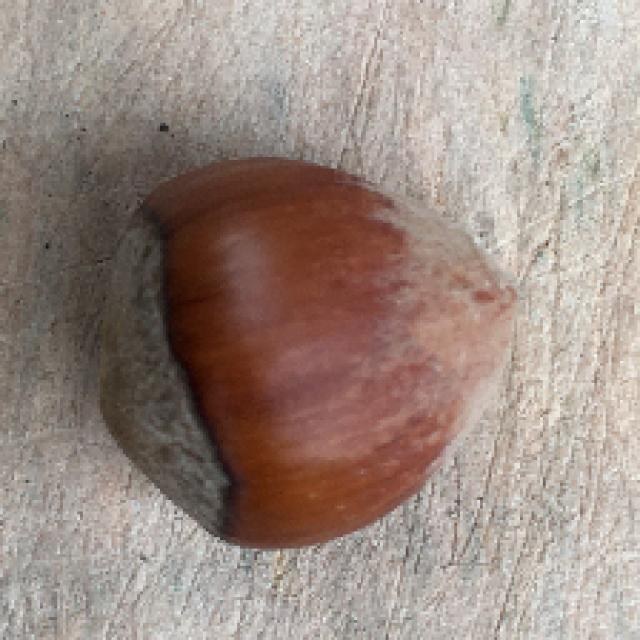qualityHazelnut: (88, 152, 517, 550)
